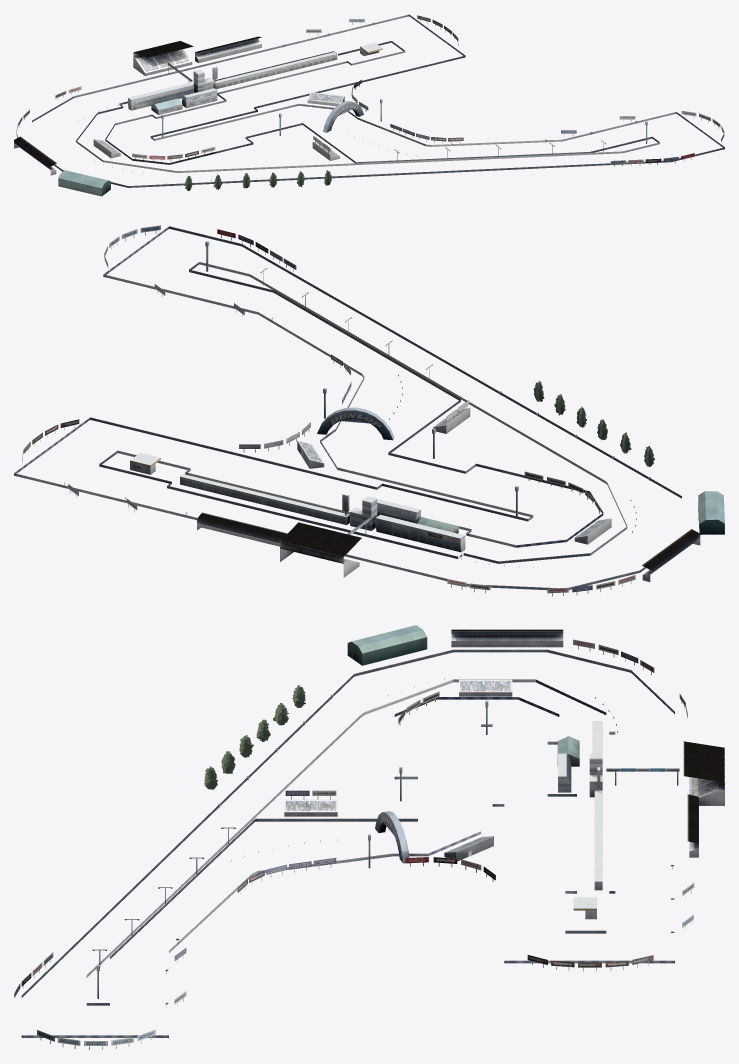
The model's file is md_course01.dae.
3 renders of one model, top to bottom at view 1: azimuth 30°, elevation 25°; view 2: azimuth 150°, elevation 25°; view 3: azimuth 270°, elevation 25°, orthographic. The views are drawn at different scales.
Visible parts, largest first — view 1: Mesh, Mesh_003, Mesh_004; view 2: Mesh, Mesh_003, Mesh_004; view 3: Mesh, Mesh_003, Mesh_004.
Boxes of the visible parts, x1,y1,x2,y2 form: Mesh: (14,15,724,196); Mesh_003: (32,14,724,187); Mesh_004: (184,170,331,190); Mesh: (22,225,724,596); Mesh_003: (14,226,681,590); Mesh_004: (533,380,654,466); Mesh: (14,625,724,1049); Mesh_003: (21,649,674,1037); Mesh_004: (204,685,305,789).
Bounding box in the file's own units: 2478 × 1812 × 93.06.
Materials: 4 (4 with a texture image).
